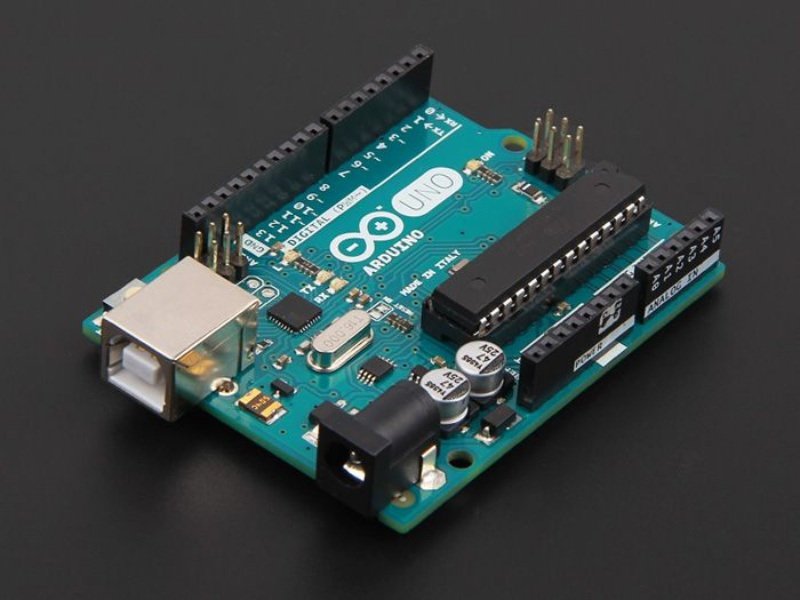uno: (83, 37, 742, 541)
